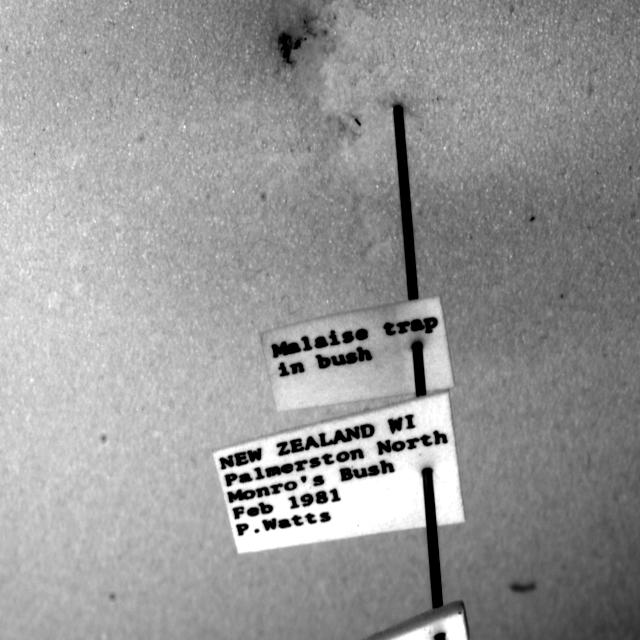typed_label: (214, 392, 465, 553), (261, 296, 454, 411)
